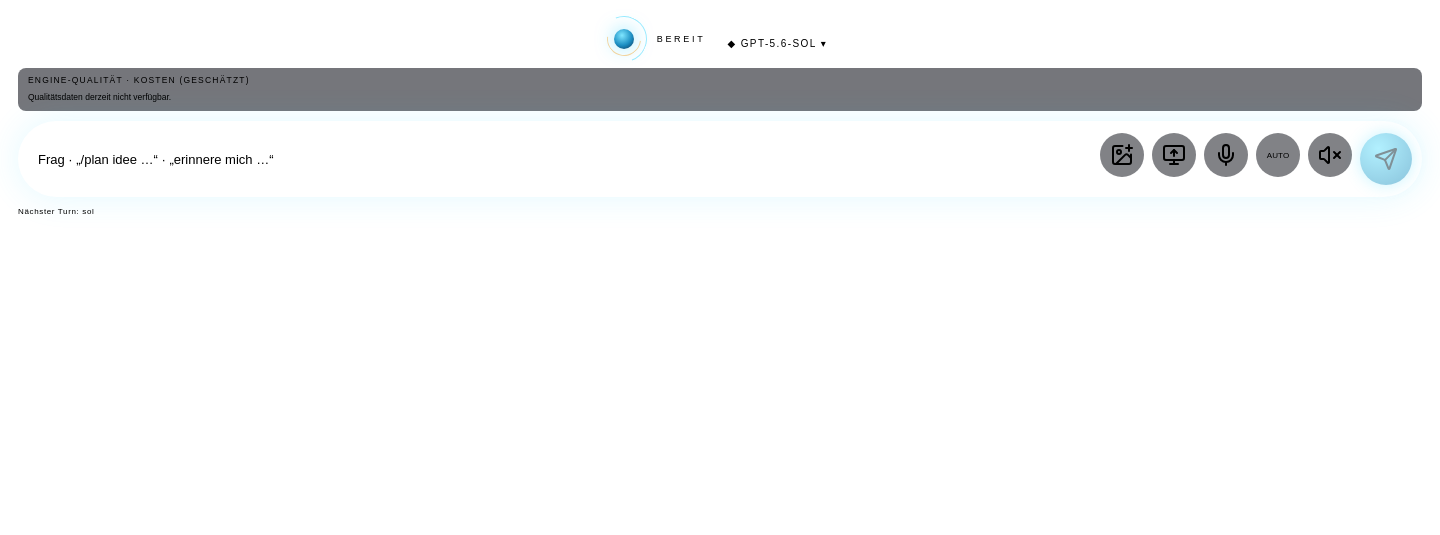
Test: PlanspecDraft (/plan-Flow, Wire aus pa_planspec.py) › „/plan <idee>“ → draft-POST ohne Switcher-Wahl, kein Chat-Turn, CLEAN-Card komplett
Type "/plan mache einen Health-Report" into the field named "Nachricht an Jarvis" at (564, 159), box [38,137,1090,181]
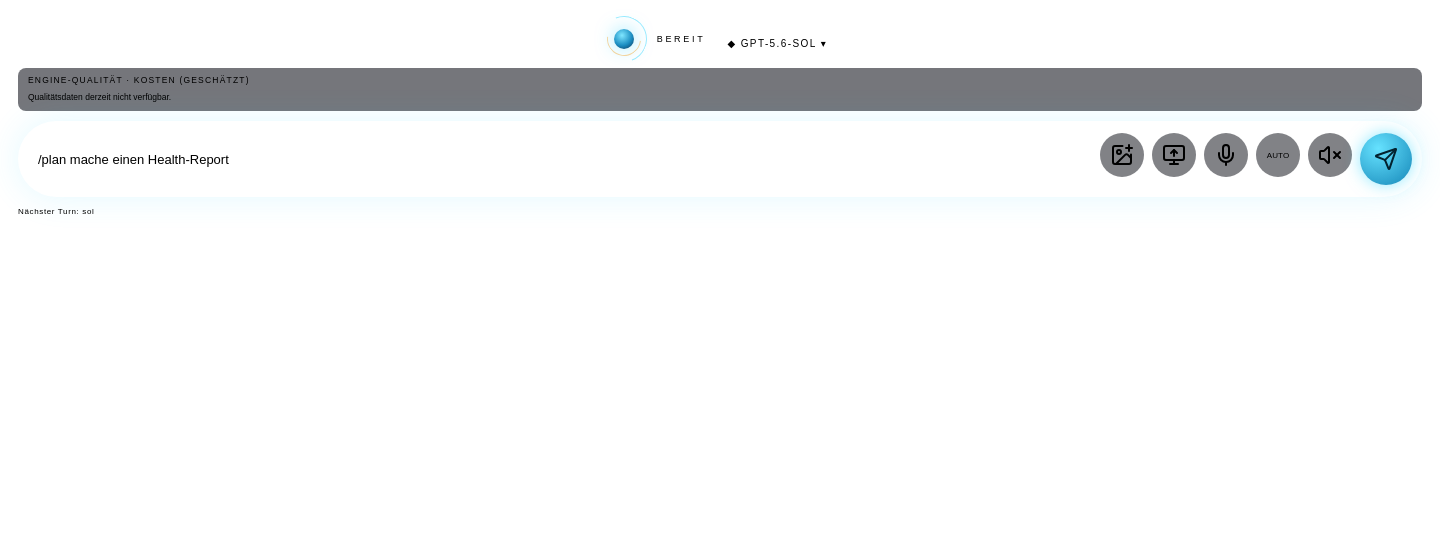
Click the button named "Nachricht senden" at (1386, 159), box [1360,133,1412,185]
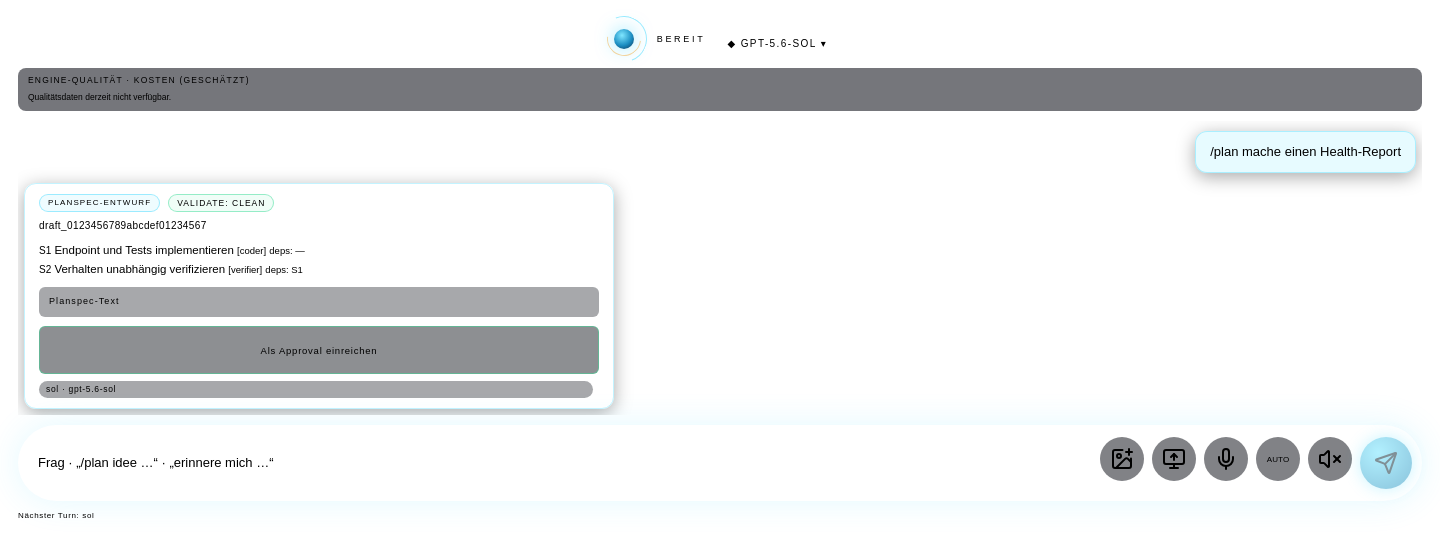
Expected: the text "/plan mache einen Health-Report" is shown, [1195,131,1416,172]
Expected: the element with test id "jv-plan-draft_0123456789abcdef01234567" shows "PLANSPEC-ENTWURF", [48,198,151,207]
Expected: the element with test id "jv-plan-draft_0123456789abcdef01234567" shows "VALIDATE: CLEAN", [177,198,266,208]
